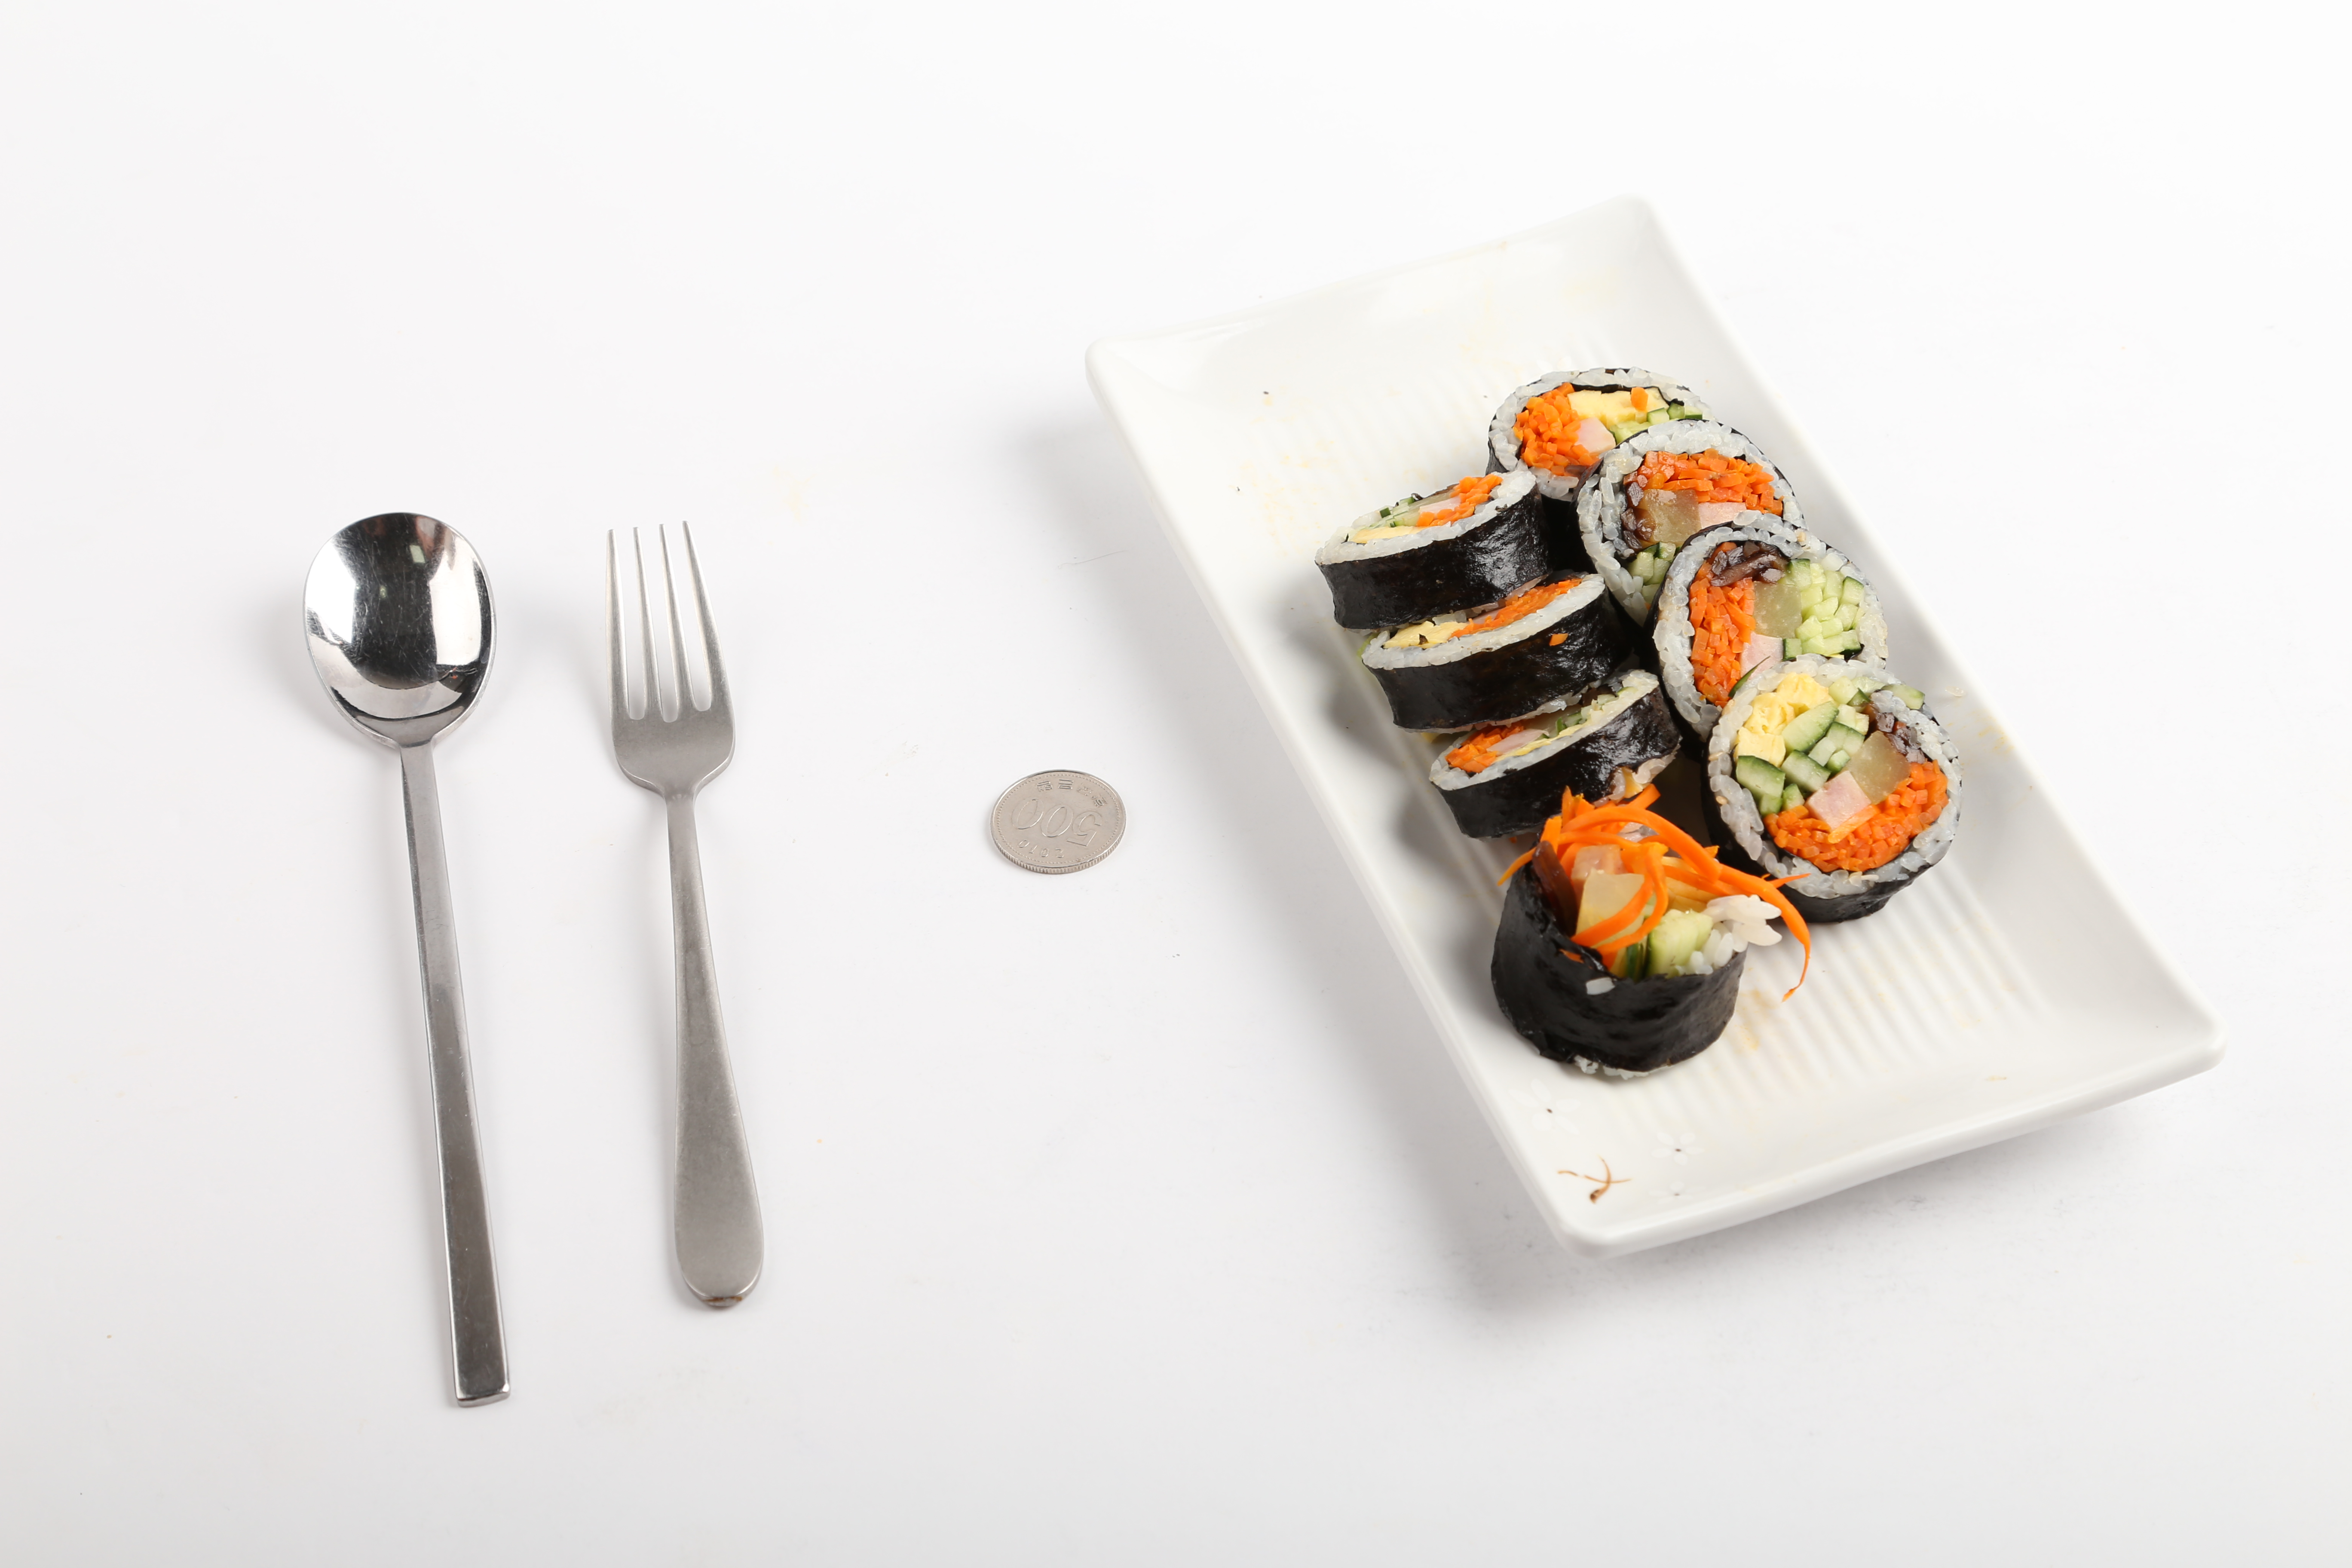dish: (1073, 178, 2229, 1270)
ref_coin: (976, 754, 1129, 882)
ref_fork: (597, 514, 737, 859)
ref_spoon: (296, 506, 499, 808)
김밥: (1318, 353, 1972, 1088)
